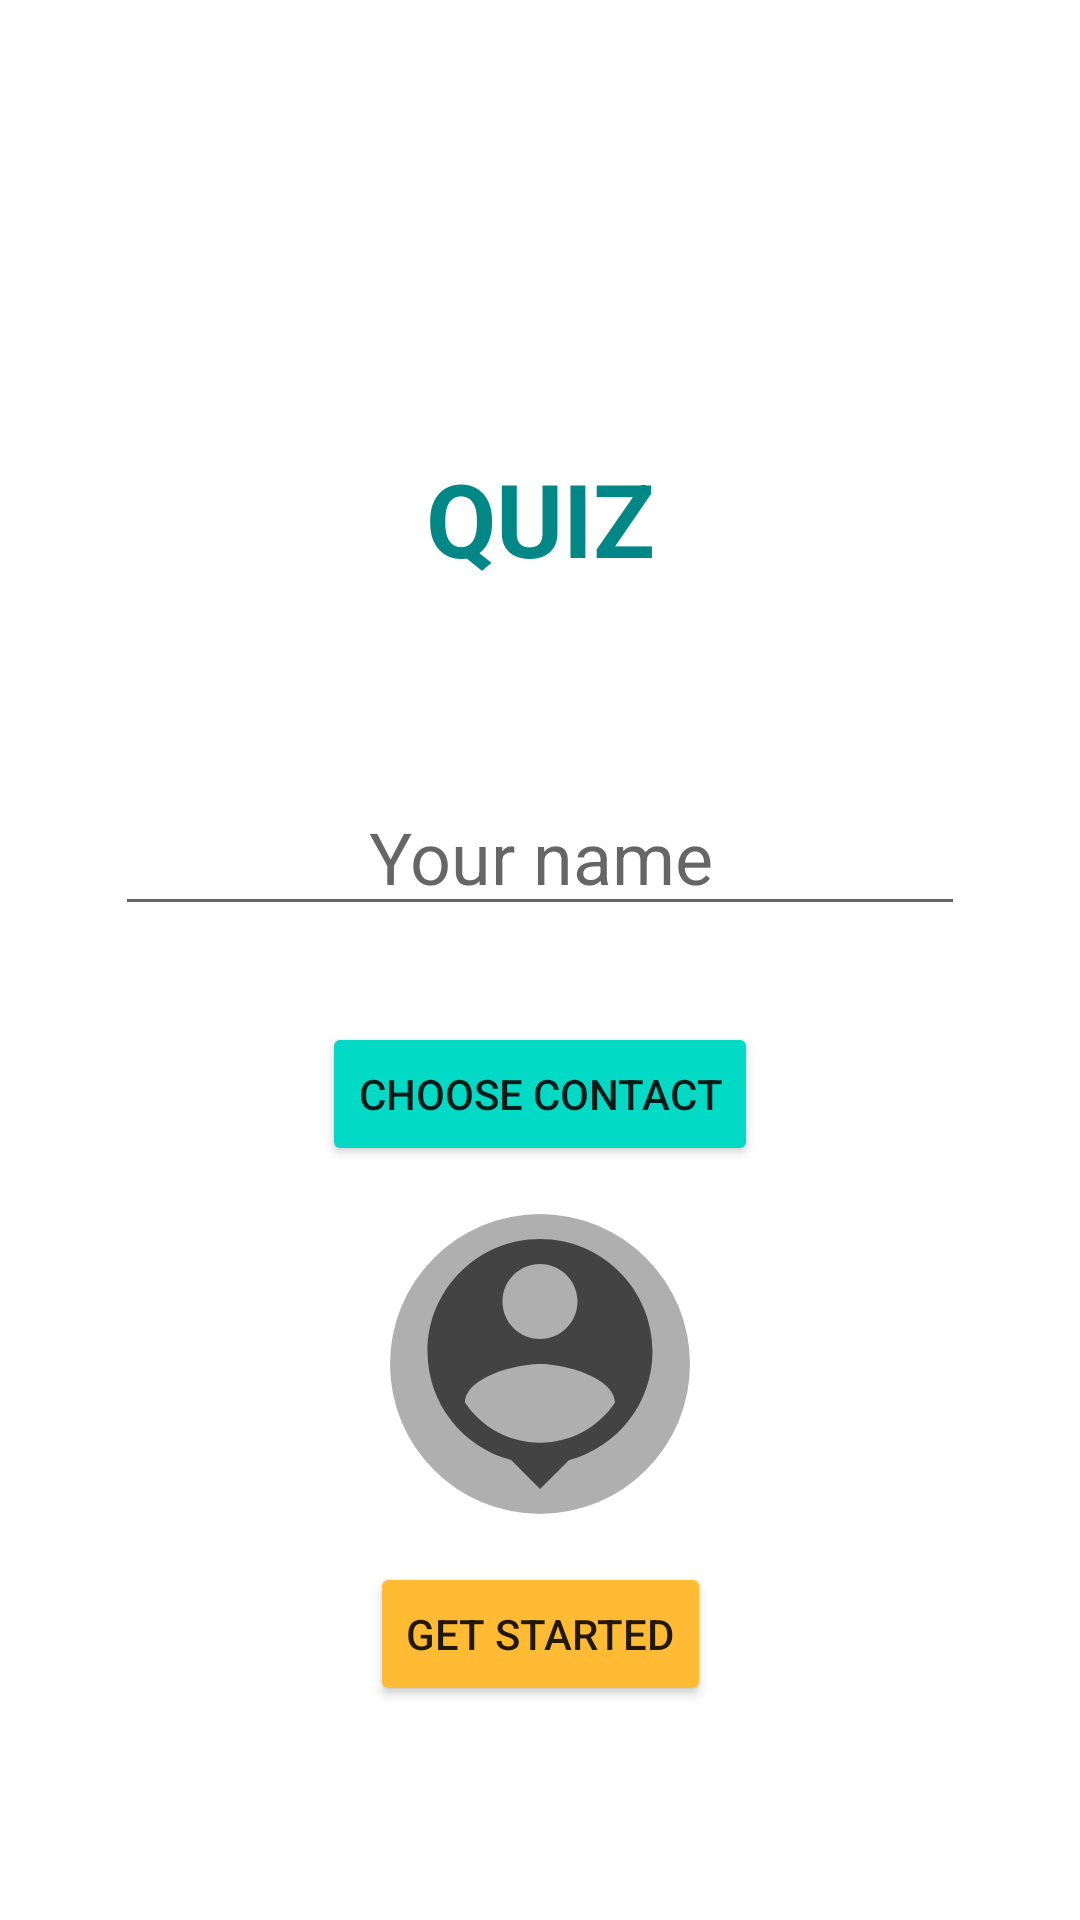

Where icons sit on this 1080×1920 app screen, as {"left": x1, "top": y1, "right": x2, "bottom": y2}:
profile: {"left": 390, "top": 1214, "right": 690, "bottom": 1514}
